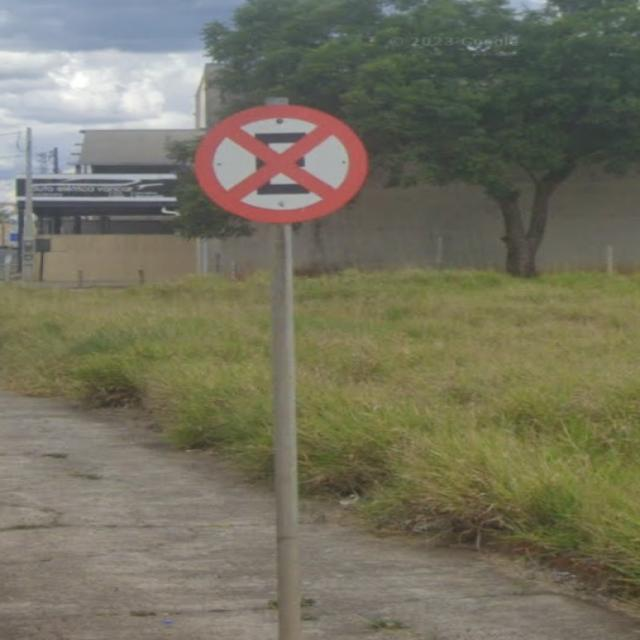no parking: (166, 85, 389, 247)
